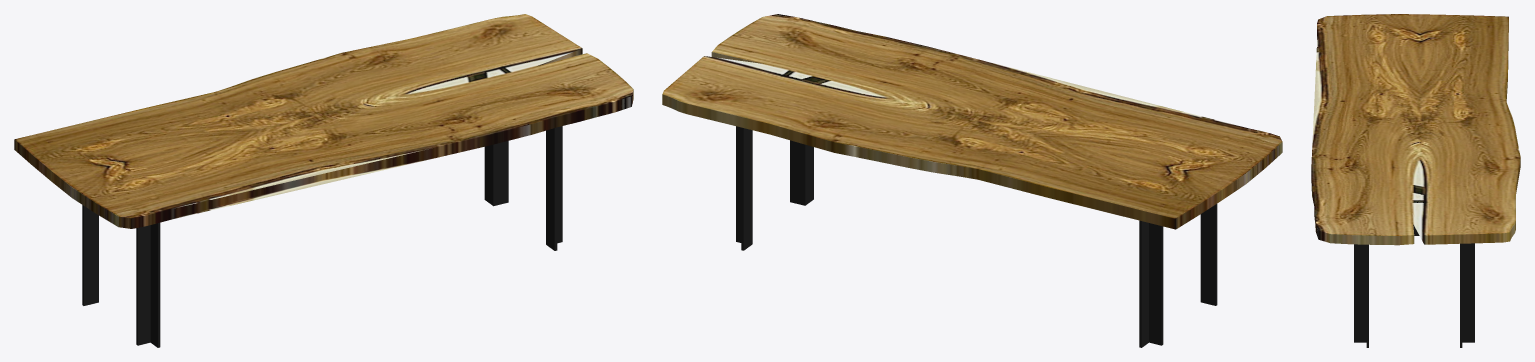
Rendered from URBAN+HARDWOODS.fbx.
3 renders of one model, left to right at view 1: azimuth 30°, elevation 25°; view 2: azimuth 150°, elevation 25°; view 3: azimuth 270°, elevation 25°, orthographic. The views are drawn at different scales.
Parts seen in each view (by area): view 1: Group1, Group_2_4, Group_2_2, Group_2_3, Group_2_1; view 2: Group1, Group_2_3, Group_2_1, Group_2_4, Group_2_2; view 3: Group1, Group_2_1, Group_2_2.
Part boxes in pixels (x1,y1,x2,y2): Group1: (14, 14, 633, 228); Group_2_4: (136, 222, 160, 347); Group_2_2: (546, 126, 562, 250); Group_2_3: (82, 205, 98, 305); Group_2_1: (484, 141, 508, 206); Group1: (662, 14, 1282, 229); Group_2_3: (1139, 220, 1163, 347); Group_2_1: (736, 126, 752, 250); Group_2_4: (1200, 204, 1217, 305); Group_2_2: (790, 140, 813, 205); Group1: (1311, 14, 1520, 245); Group_2_1: (1460, 243, 1474, 347); Group_2_2: (1354, 244, 1368, 347).
Bounding box in the file's own units: 104 × 29.5 × 41.5.
